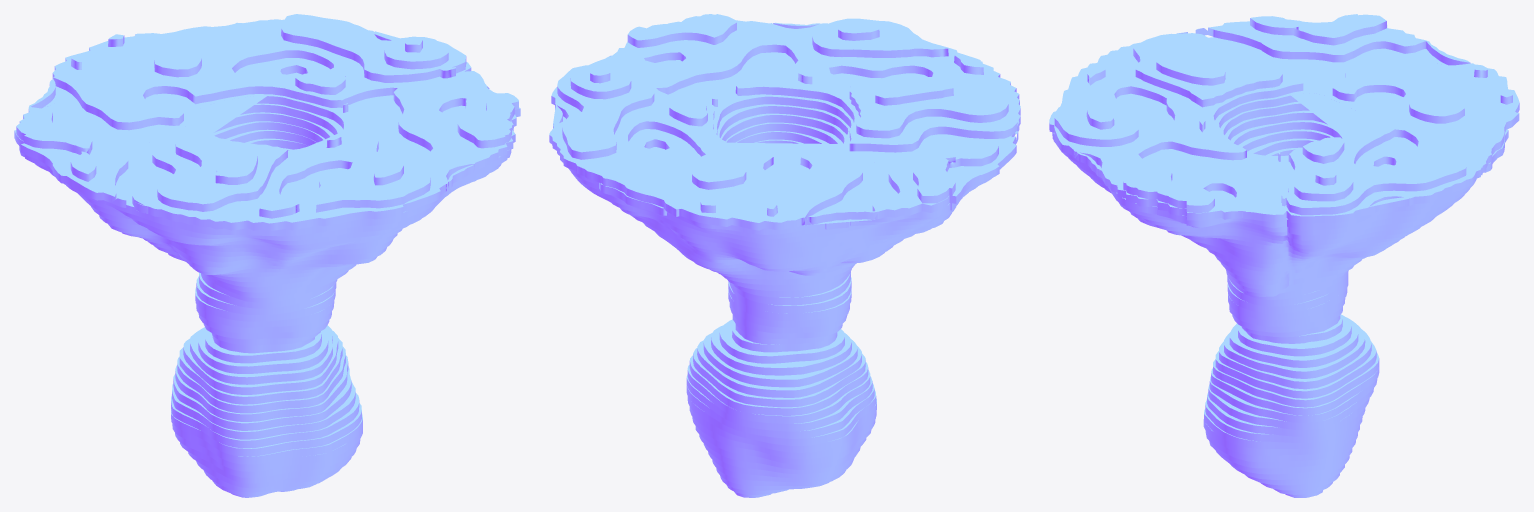
The model's file is 3d-printed.glb.
3 renders of one model, left to right at view 1: azimuth 30°, elevation 25°; view 2: azimuth 150°, elevation 25°; view 3: azimuth 270°, elevation 25°, orthographic. The views are drawn at different scales.
Visible parts, largest first — view 1: 3dprinted; view 2: 3dprinted; view 3: 3dprinted.
Part boxes in pixels (box(x1,y1,x2,y2)): 3dprinted: box(14, 14, 520, 497); 3dprinted: box(549, 14, 1020, 497); 3dprinted: box(1049, 14, 1519, 497).
Size of the model in its own units: 4.61 by 4.16 by 4.64.
